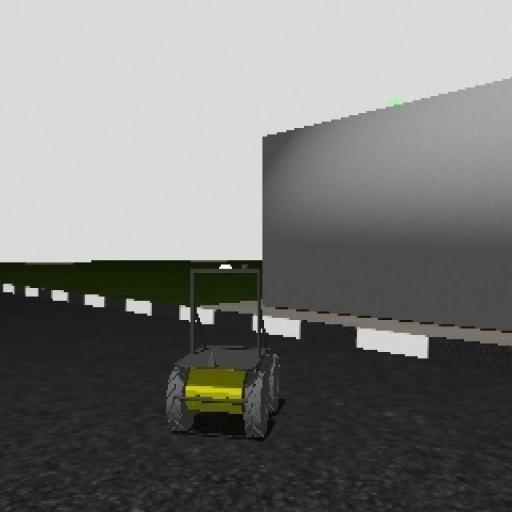huskya200: (157, 261, 289, 465)
